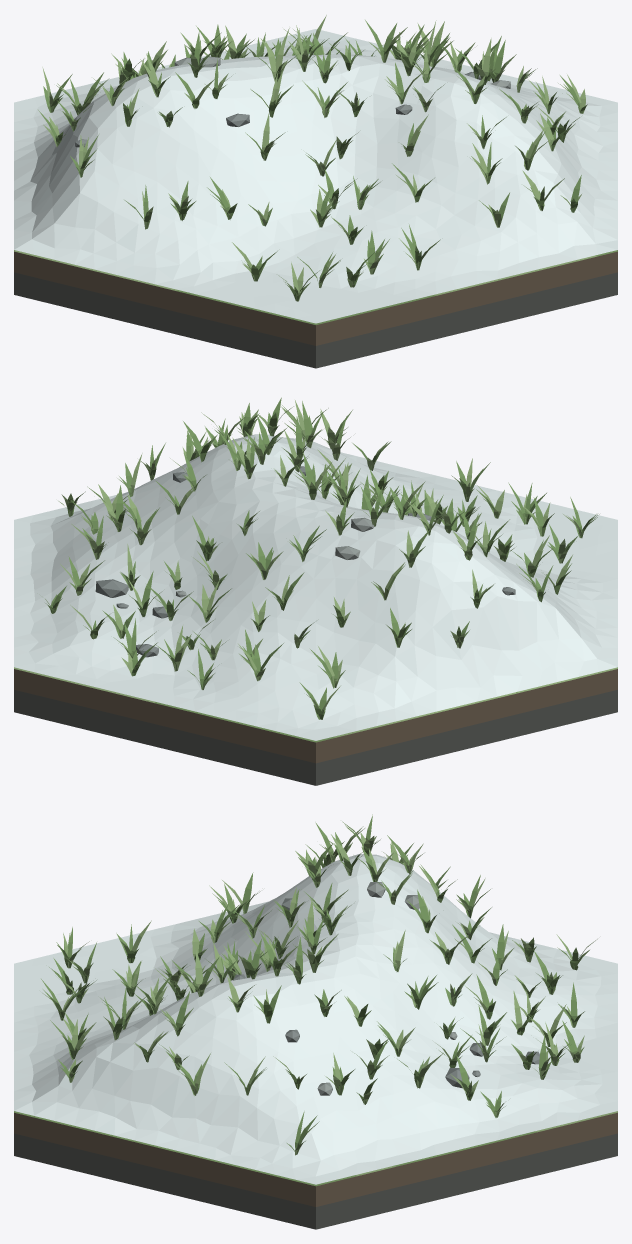
Rendered from rolling-hills.glb.
3 views of the same model, one above another, from view 1: azimuth 30°, elevation 25°; view 2: azimuth 150°, elevation 25°; view 3: azimuth 270°, elevation 25° (orthographic).
Parts seen in each view (by area): view 1: SnowZone.010_mesh, LandformRoot_mesh, SnowZone.011_mesh, SnowZone.008_mesh, SnowZone.009_mesh, SnowZone.007_mesh, SnowZone.005_mesh, SnowZone.006_mesh, SnowZone.004_mesh, SnowZone.003_mesh, SnowZone.002_mesh, SnowZone.012_mesh (+2 smaller); view 2: SnowZone.010_mesh, LandformRoot_mesh, SnowZone.011_mesh, SnowZone.009_mesh, SnowZone.008_mesh, SnowZone.007_mesh, SnowZone.002_mesh, SnowZone.003_mesh, SnowZone.005_mesh, SnowZone.006_mesh, SnowZone.012_mesh, SnowZone.004_mesh (+1 smaller); view 3: SnowZone.010_mesh, LandformRoot_mesh, SnowZone.011_mesh, SnowZone.008_mesh, SnowZone.007_mesh, SnowZone.009_mesh, SnowZone.002_mesh, SnowZone.012_mesh, SnowZone.006_mesh, SnowZone.005_mesh, SnowZone.003_mesh, SnowZone.004_mesh (+1 smaller).
Part boxes in pixels (x1=…): SnowZone.010_mesh: x1=14, y1=29, x2=617, y2=323; LandformRoot_mesh: x1=14, y1=56, x2=617, y2=368; SnowZone.011_mesh: x1=31, y1=38, x2=602, y2=315; SnowZone.008_mesh: x1=49, y1=66, x2=578, y2=225; SnowZone.009_mesh: x1=31, y1=94, x2=580, y2=243; SnowZone.007_mesh: x1=51, y1=69, x2=560, y2=210; SnowZone.005_mesh: x1=73, y1=83, x2=540, y2=182; SnowZone.006_mesh: x1=58, y1=88, x2=561, y2=193; SnowZone.004_mesh: x1=73, y1=79, x2=539, y2=165; SnowZone.003_mesh: x1=89, y1=55, x2=519, y2=148; SnowZone.002_mesh: x1=89, y1=54, x2=498, y2=129; SnowZone.012_mesh: x1=34, y1=51, x2=601, y2=309; SnowZone.010_mesh: x1=14, y1=452, x2=617, y2=740; LandformRoot_mesh: x1=14, y1=466, x2=617, y2=785; SnowZone.011_mesh: x1=29, y1=473, x2=603, y2=729; SnowZone.009_mesh: x1=70, y1=453, x2=581, y2=689; SnowZone.008_mesh: x1=75, y1=441, x2=558, y2=665; SnowZone.007_mesh: x1=101, y1=439, x2=554, y2=659; SnowZone.002_mesh: x1=211, y1=434, x2=490, y2=581; SnowZone.003_mesh: x1=193, y1=436, x2=500, y2=589; SnowZone.005_mesh: x1=173, y1=437, x2=520, y2=626; SnowZone.006_mesh: x1=151, y1=437, x2=536, y2=644; SnowZone.012_mesh: x1=30, y1=478, x2=582, y2=722; SnowZone.004_mesh: x1=181, y1=435, x2=512, y2=613; SnowZone.010_mesh: x1=14, y1=901, x2=617, y2=1184; LandformRoot_mesh: x1=14, y1=882, x2=617, y2=1229; SnowZone.011_mesh: x1=29, y1=925, x2=602, y2=1168; SnowZone.008_mesh: x1=76, y1=898, x2=500, y2=1124; SnowZone.007_mesh: x1=96, y1=894, x2=495, y2=1105; SnowZone.009_mesh: x1=57, y1=899, x2=537, y2=1145; SnowZone.002_mesh: x1=197, y1=856, x2=420, y2=1020; SnowZone.012_mesh: x1=29, y1=946, x2=600, y2=1176; SnowZone.006_mesh: x1=113, y1=891, x2=477, y2=1075; SnowZone.005_mesh: x1=134, y1=875, x2=459, y2=1056; SnowZone.003_mesh: x1=176, y1=862, x2=441, y2=1038; SnowZone.004_mesh: x1=158, y1=871, x2=457, y2=1052.
Bounding box in the file's own units: 3.5 × 1.07 × 3.03.
